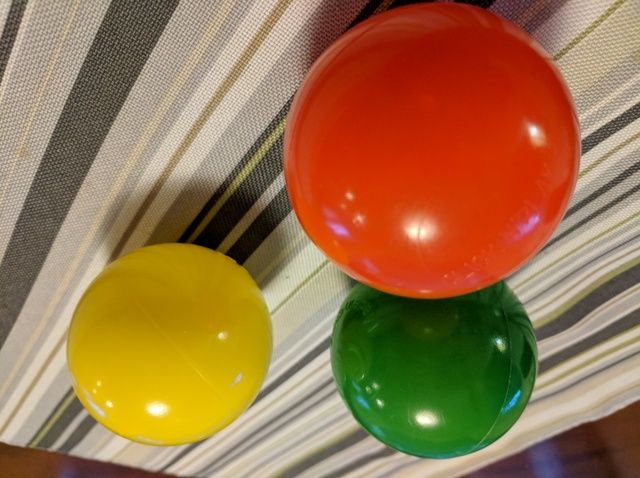ball: (282, 1, 584, 301)
